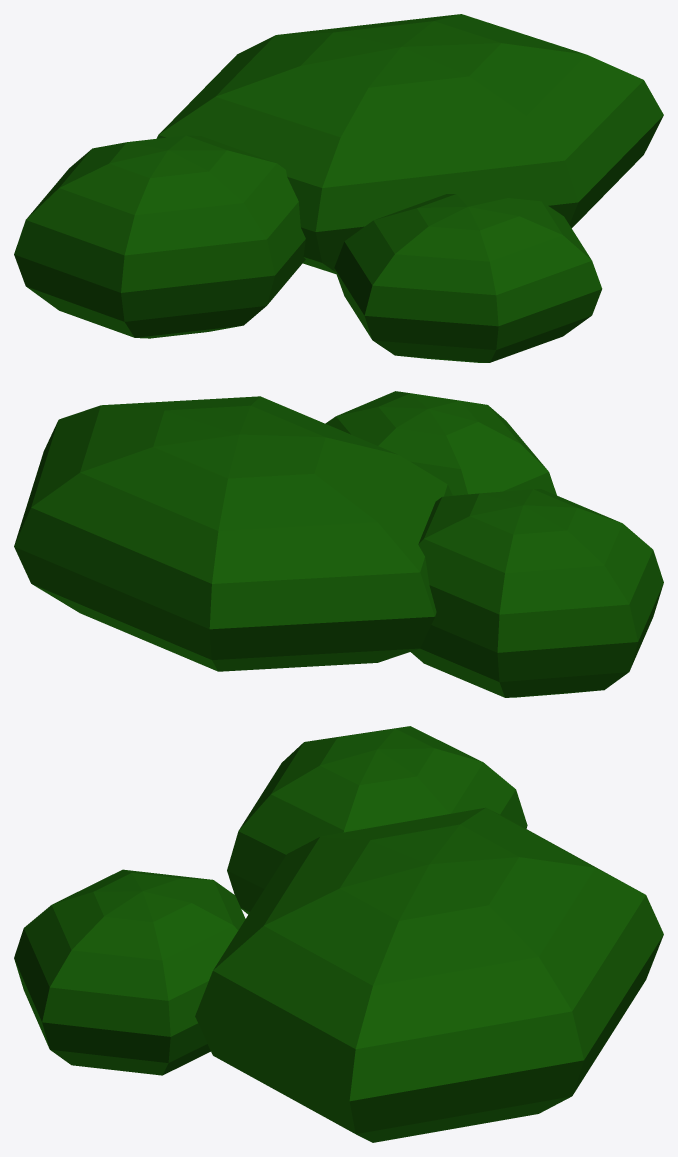
The model's file is Shurb_C.fbx.
3 renders of one model, top to bottom at view 1: azimuth 30°, elevation 25°; view 2: azimuth 150°, elevation 25°; view 3: azimuth 270°, elevation 25°, orthographic. The views are drawn at different scales.
Visible parts, largest first — view 1: sphere2, sphere3, sphere4; view 2: sphere2, sphere3, sphere4; view 3: sphere2, sphere4, sphere3.
Boxes of the visible parts, <box> form: sphere2: <box>156,14,663,273</box>; sphere3: <box>14,135,305,338</box>; sphere4: <box>334,194,602,362</box>; sphere2: <box>14,396,452,671</box>; sphere3: <box>411,489,663,697</box>; sphere4: <box>325,391,556,495</box>; sphere2: <box>195,807,663,1142</box>; sphere4: <box>14,869,245,1075</box>; sphere3: <box>227,726,527,914</box>.
Bounding box in the file's own units: 8.76 × 2.68 × 7.04.
